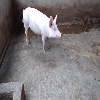heo: (21, 5, 63, 53)
